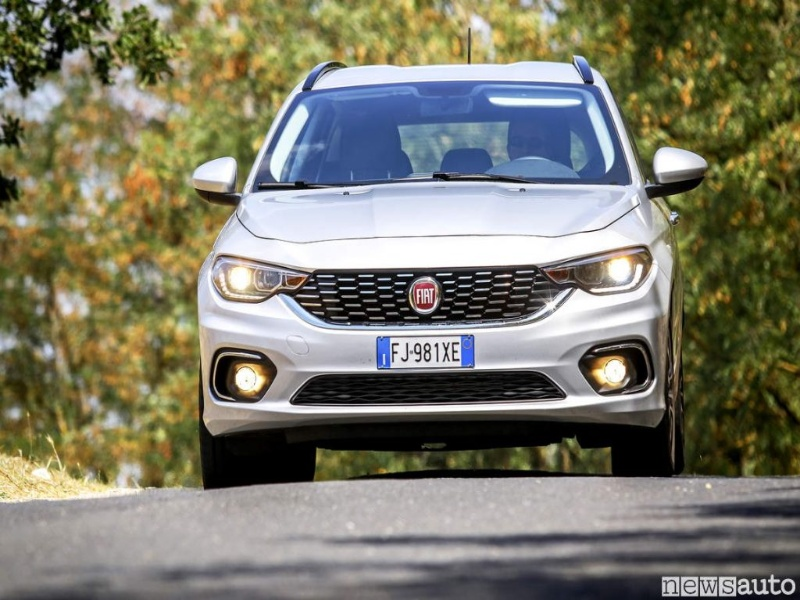licenceplate: (377, 337, 474, 368)
